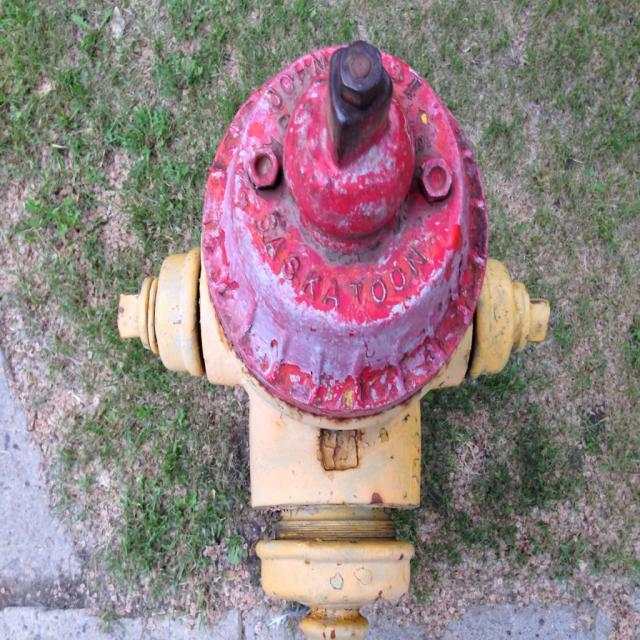fire_hydrant: (118, 40, 551, 639)
